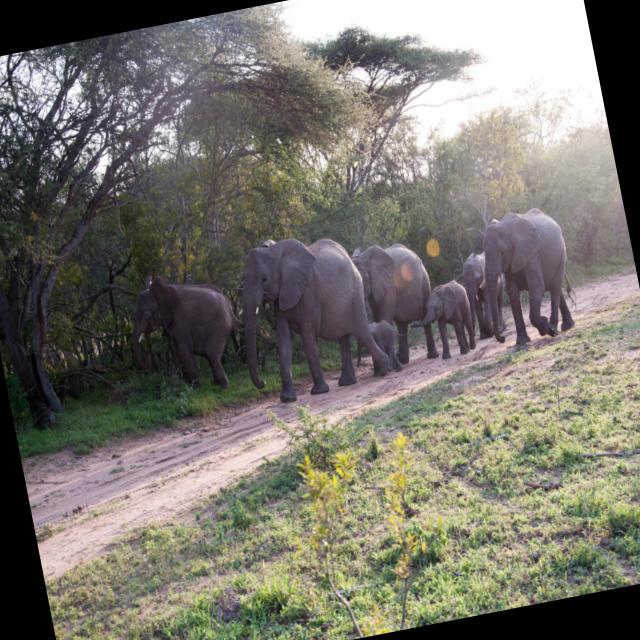elephant: (228, 212, 396, 416), (340, 195, 452, 432), (458, 188, 590, 380), (422, 203, 532, 427), (117, 218, 243, 394), (414, 255, 484, 384)
